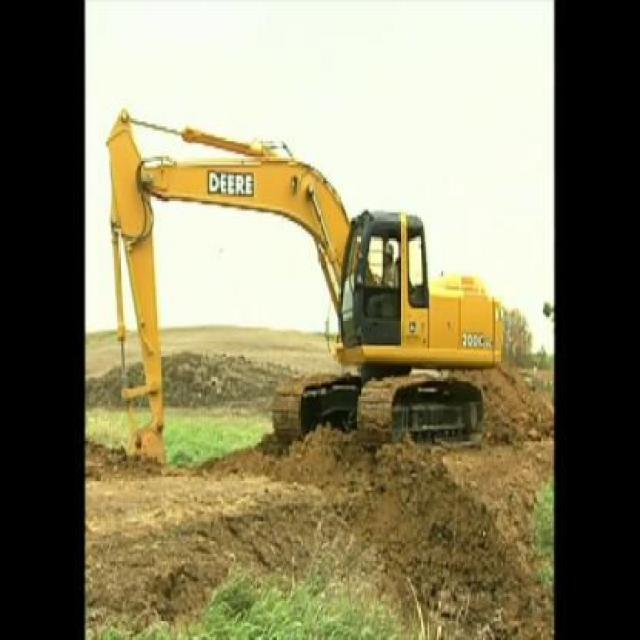Excavator: (97, 99, 509, 492)
